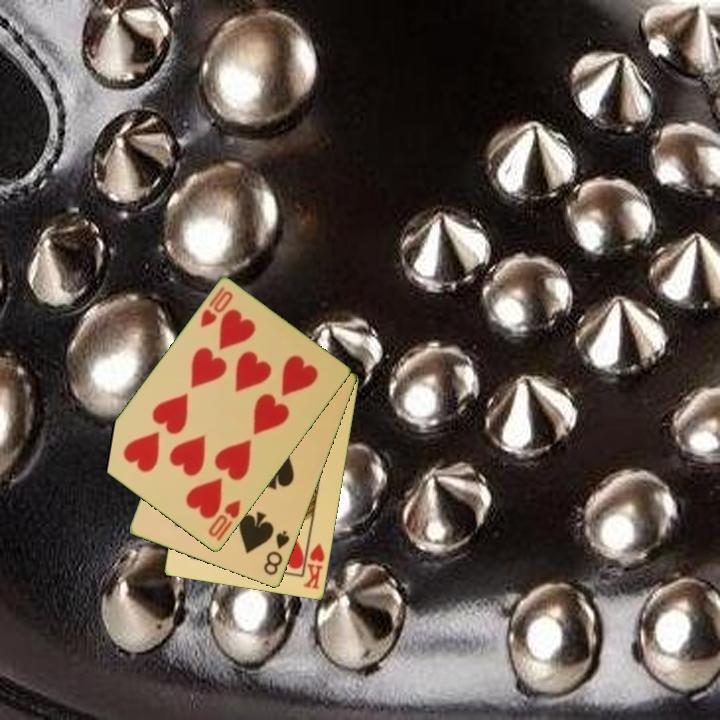10h: (205, 497, 244, 544), (197, 284, 236, 331)
8s: (260, 527, 293, 579)
Kh: (300, 536, 328, 592)
